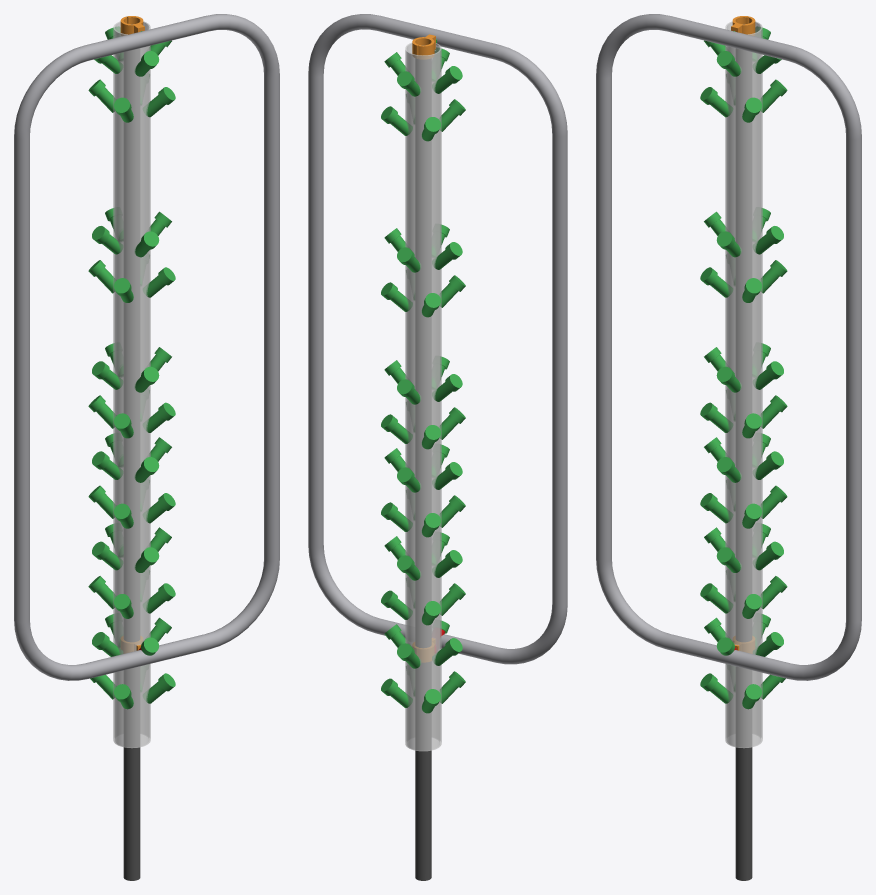
File: spine-connector-positions-v1.glb
3 renders of one model, left to right at view 1: azimuth 30°, elevation 25°; view 2: azimuth 150°, elevation 25°; view 3: azimuth 330°, elevation 25°, orthographic. The views are drawn at different scales.
Visible parts, largest first — view 1: track_loop, growing_pipe, pod_places_free, spine_tube; view 2: track_loop, growing_pipe, pod_places_free, spine_tube, connector_top_bracket; view 3: track_loop, growing_pipe, pod_places_free, spine_tube.
Part boxes in pixels (x1,y1,x2,y2): track_loop: [14, 14, 279, 680]; growing_pipe: [113, 21, 150, 748]; pod_places_free: [88, 26, 175, 709]; spine_tube: [123, 24, 140, 880]; track_loop: [308, 14, 567, 664]; growing_pipe: [405, 42, 441, 751]; pod_places_free: [381, 47, 465, 713]; spine_tube: [415, 45, 431, 880]; connector_top_bracket: [412, 34, 435, 59]; track_loop: [596, 14, 861, 680]; growing_pipe: [725, 21, 762, 748]; pod_places_free: [700, 26, 787, 709]; spine_tube: [735, 24, 752, 880].
Size of the model in its own units: 612 by 1900 by 180.
